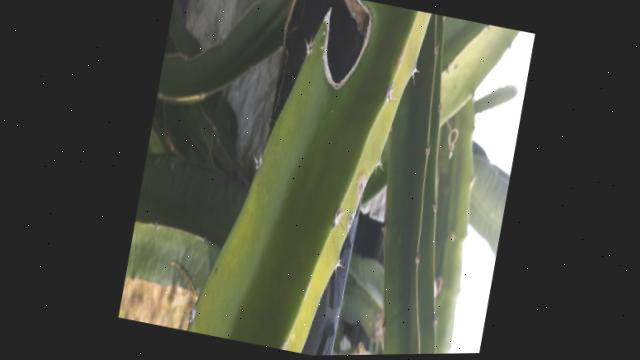stemcanker: (329, 204, 354, 233)
